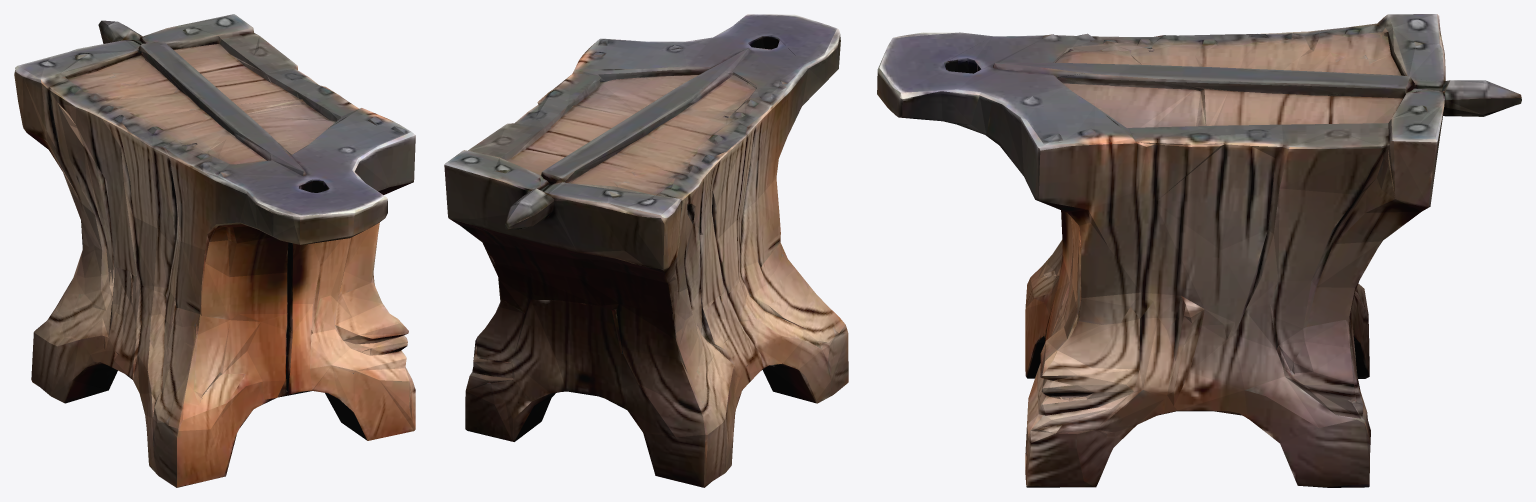
The model's file is blacksmith_anvil_01.glb.
3 renders of one model, left to right at view 1: azimuth 30°, elevation 25°; view 2: azimuth 150°, elevation 25°; view 3: azimuth 270°, elevation 25°, orthographic. The views are drawn at different scales.
Visible parts, largest first — view 1: geometry_0; view 2: geometry_0; view 3: geometry_0.
Part boxes in pixels (left/top/right/bottom): geometry_0: left=14, top=14, right=415, bottom=487; geometry_0: left=444, top=14, right=848, bottom=487; geometry_0: left=877, top=14, right=1521, bottom=487.
Size of the model in its own units: 0.5218 by 0.6038 by 0.9985.
1 material, 1 textured.
